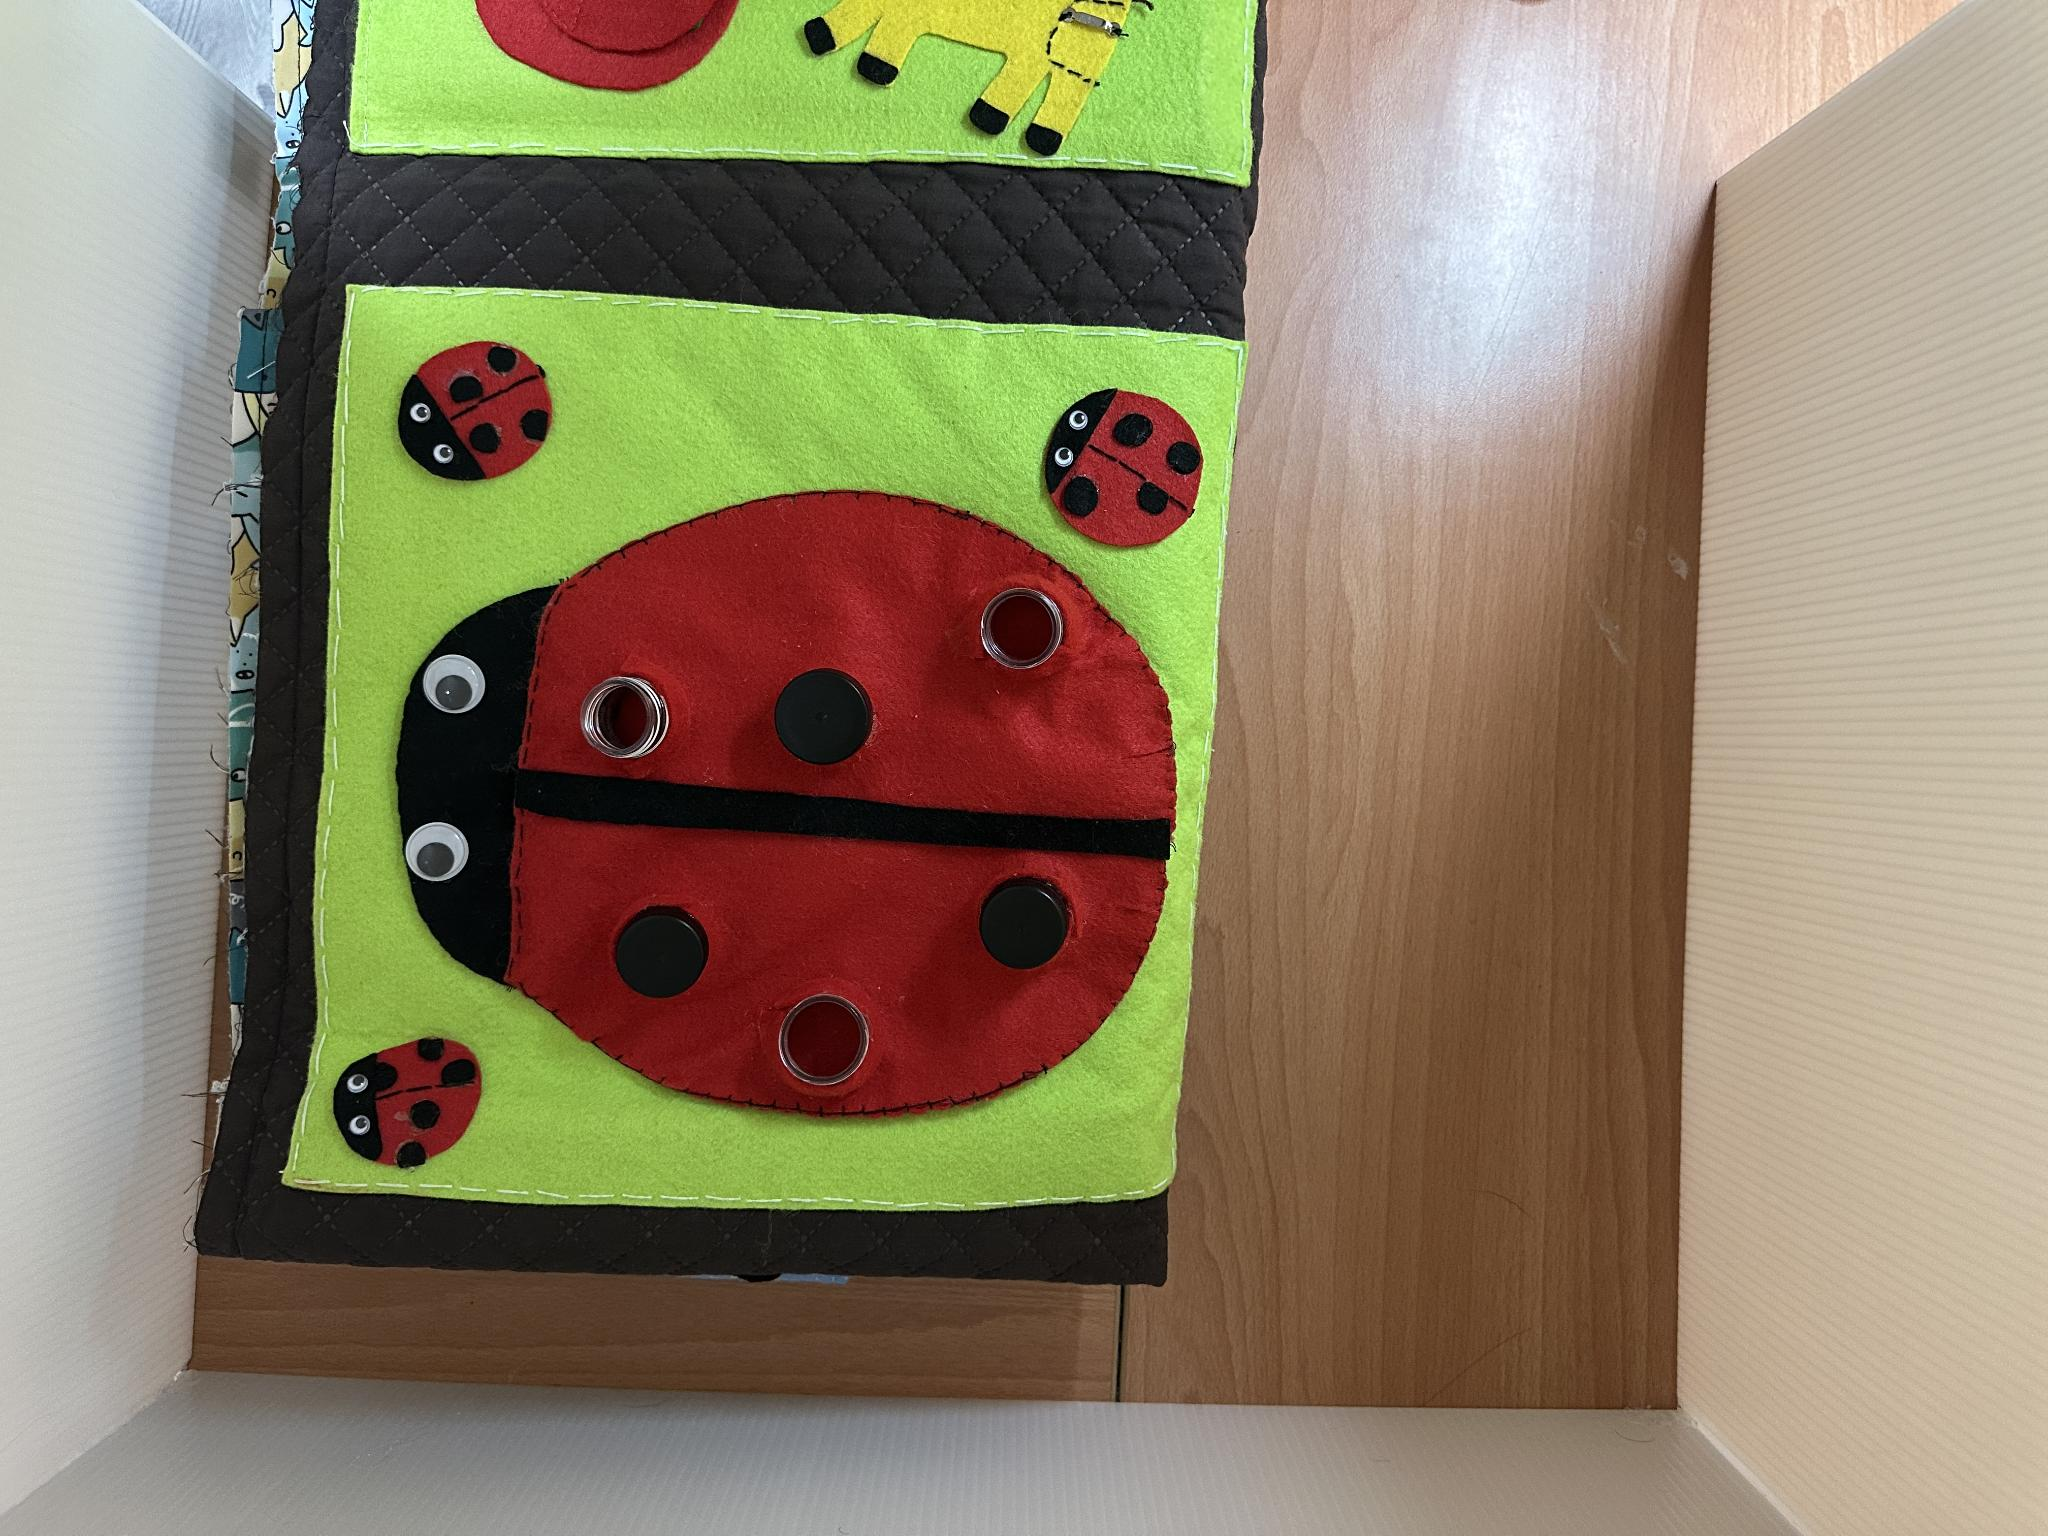cap_ok: (574, 887, 745, 1013), (747, 650, 898, 786), (948, 866, 1105, 987)
